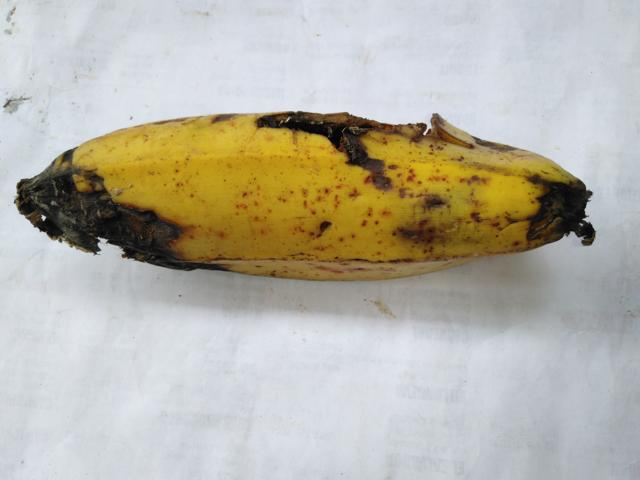rotten: (260, 76, 596, 264), (16, 90, 191, 319)
